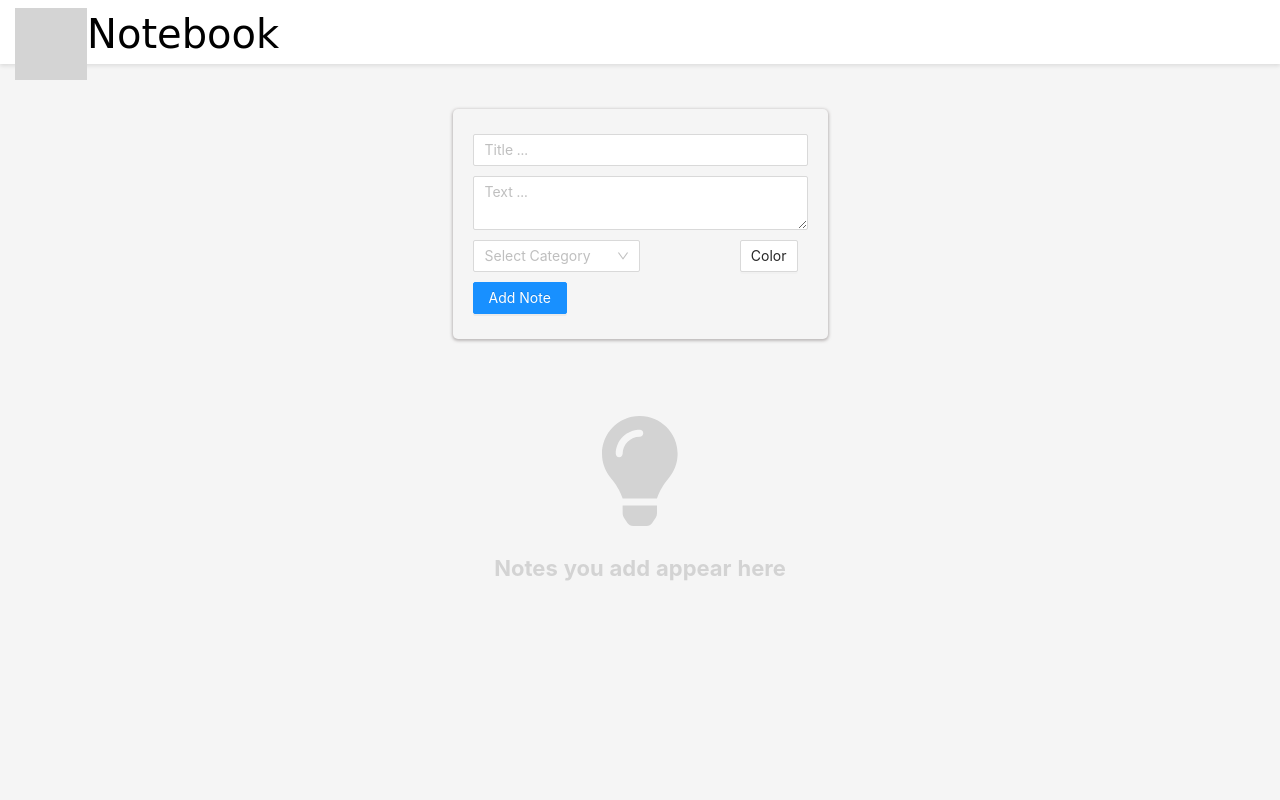
Test: App › should delete a note
Press the mouse on the element showing "Select Category" at (556, 256), box top-left (472, 240), bottom-right (640, 272)
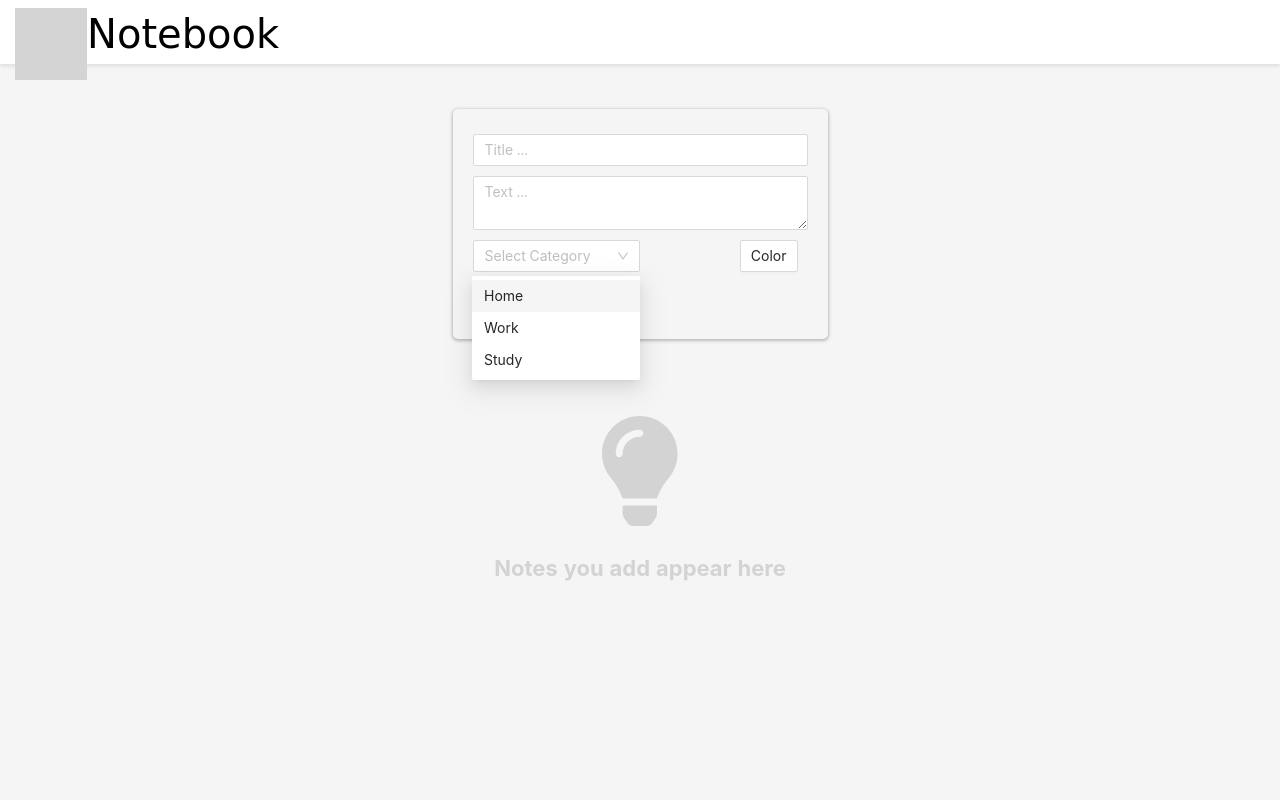
Expected: the element titled "Home" is shown
Click the element titled "Home".
click(556, 296)  # box top-left (472, 280), bottom-right (640, 312)
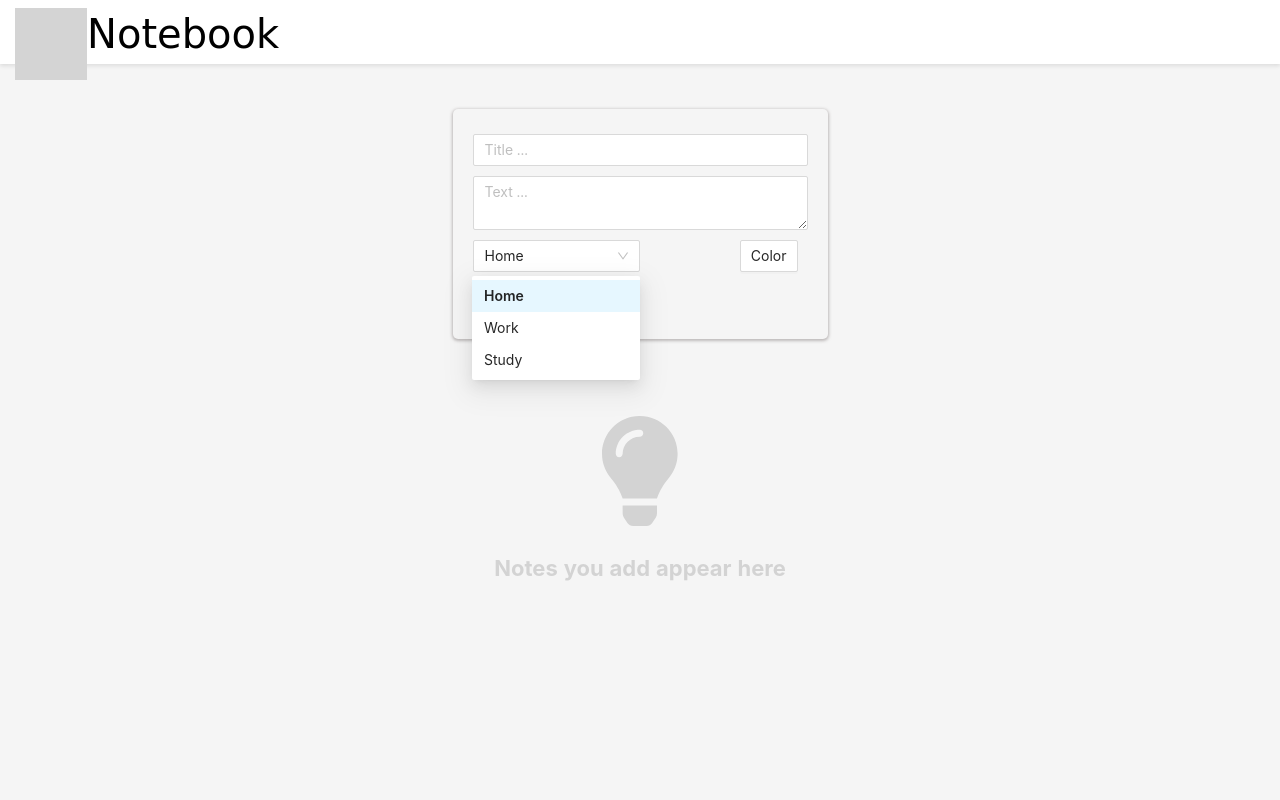
Type "lorem ipsum" into the field with placeholder "Title ...".
click(640, 150); type("lorem ipsum")  # box top-left (472, 134), bottom-right (808, 166)
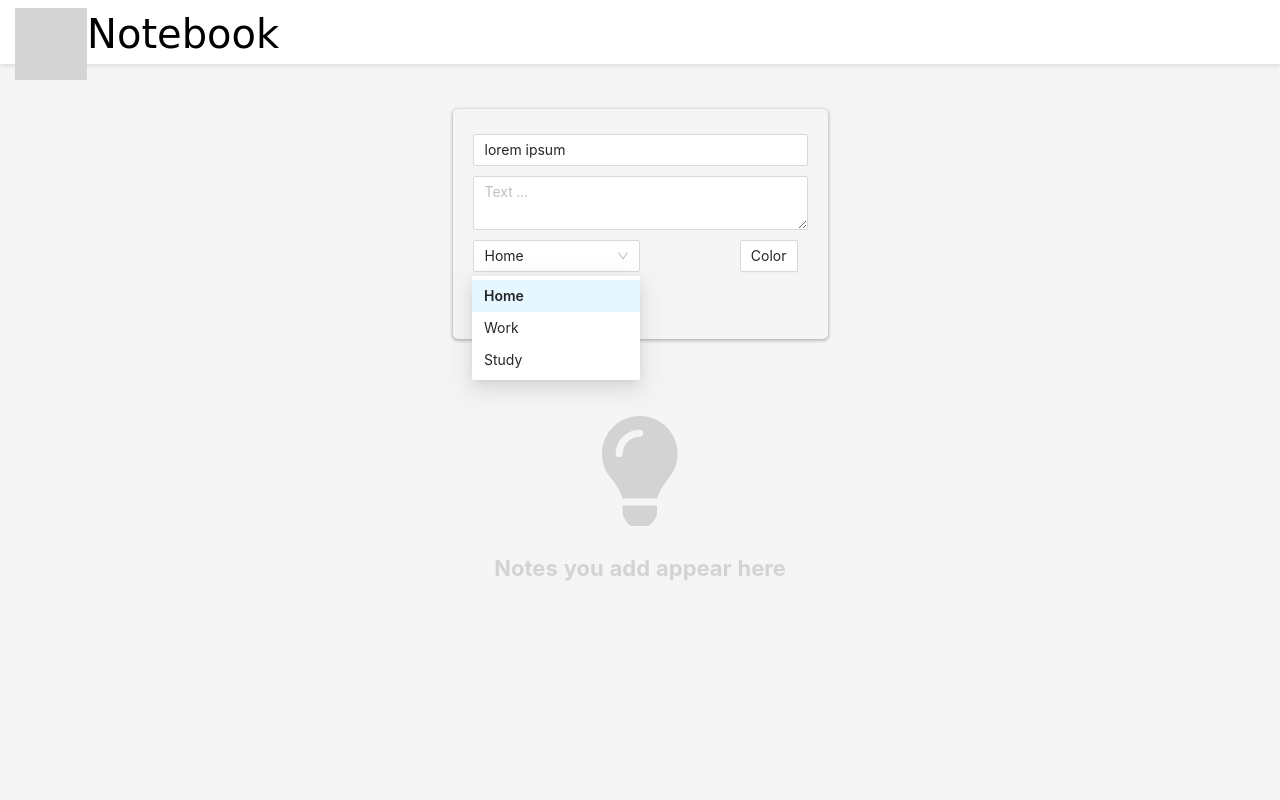
Type "lorem ipsum lorem ipsum lorem ipsum lorem ipsum lorem ipsum" into the text box with placeholder "Text ...".
click(640, 203); type("lorem ipsum lorem ipsum lorem ipsum lorem ipsum lorem ipsum")  # box top-left (472, 176), bottom-right (808, 230)
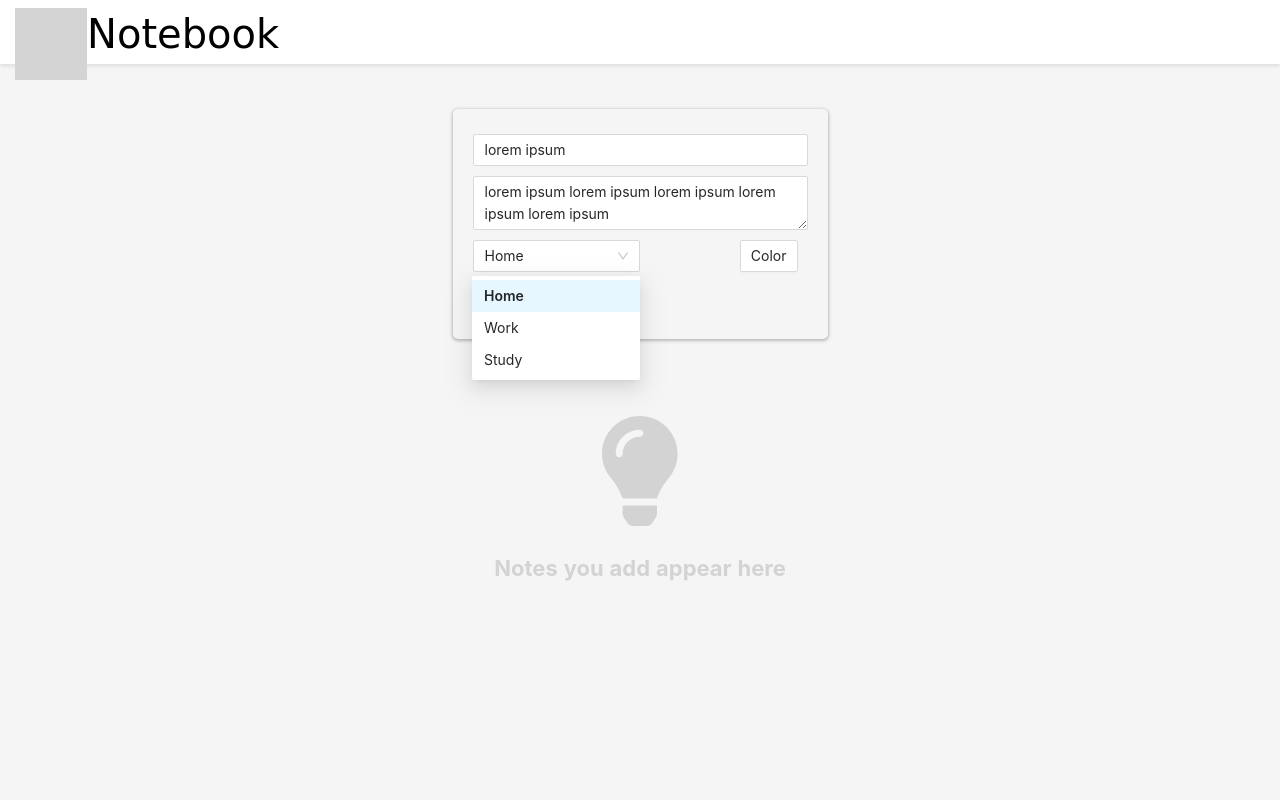
Click the button "Add Note".
click(520, 298)  # box top-left (472, 282), bottom-right (567, 314)
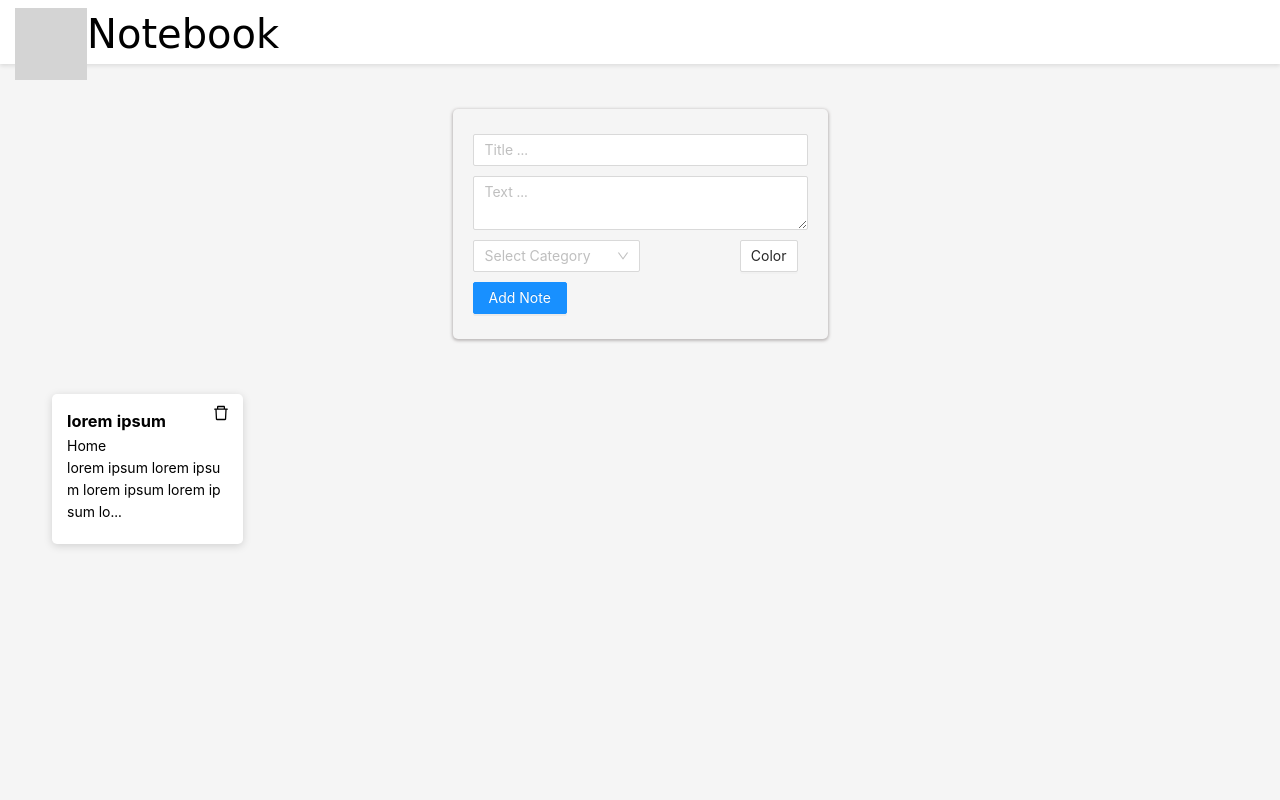
Expected: the element with test id "newNote" is shown, top-left (42, 394), bottom-right (233, 544)
Expected: the element with test id "newNote" shows "lorem", top-left (67, 411), bottom-right (166, 431)
Expected: the button with test id "delete-btn" is shown
Click the button with test id "delete-btn".
click(221, 414)  # box top-left (197, 394), bottom-right (245, 434)
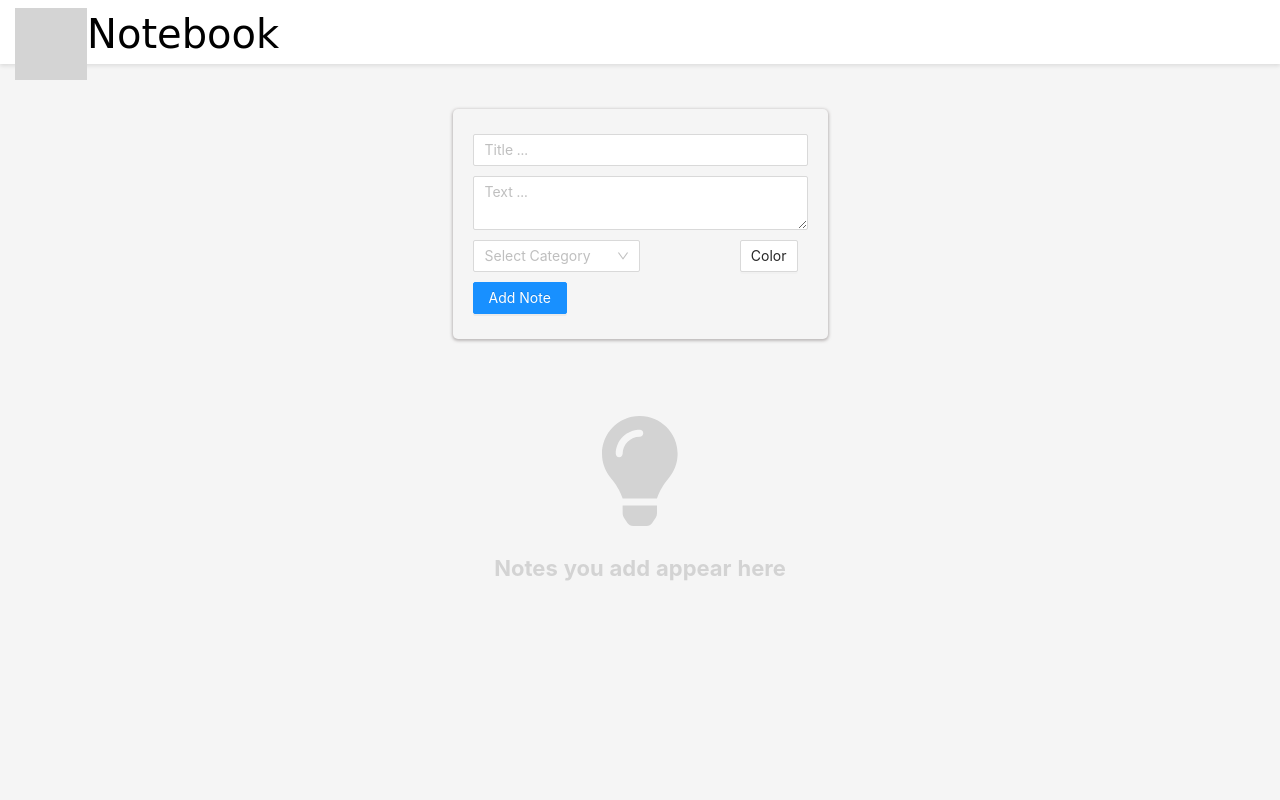
Expected: the element with test id "newNote" is gone
